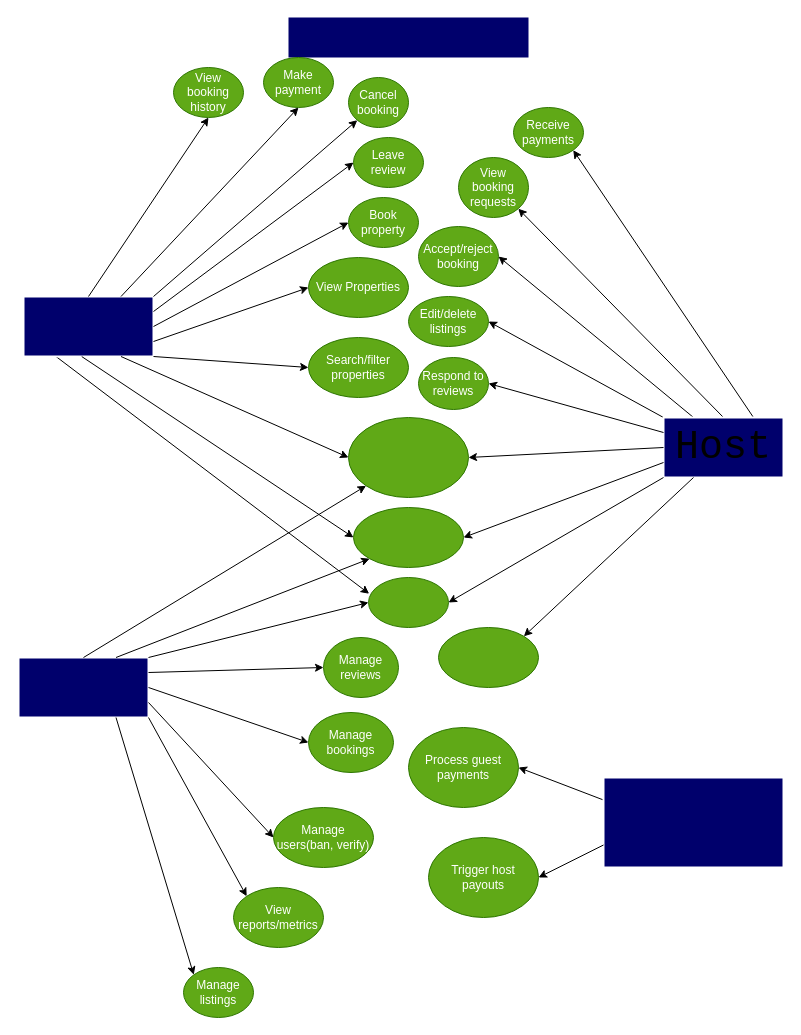
Some shapes in this 801 by 1035 pixel diagram are drawn without their labels. Here are the shapes that lost their labels. From the top down, the centre of each, then its label:
At [408,37]: "Use Case Diagram".
At [88,326]: "Guest".
At [408,457]: "Register an account/Log in".
At [408,537]: "Send/receive messages".
At [408,602]: "Receive notifications".
At [488,657]: "Create property listings".
At [83,687]: "Admin".
At [693,822]: "Payment Gateway".
